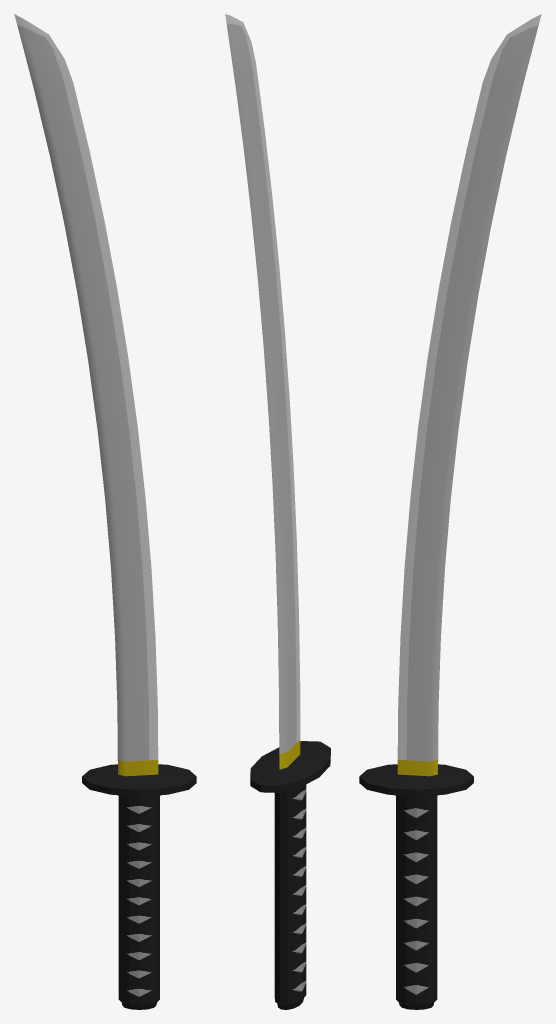
Rendered from katana.gltf.
The picture shows the model from 3 angles, left to right: view 1: azimuth 90°, elevation 25°; view 2: azimuth 150°, elevation 25°; view 3: azimuth 270°, elevation 25°; orthographic projection. The views are drawn at different scales.
Parts seen in each view (by area): view 1: Katana_Mesh; view 2: Katana_Mesh; view 3: Katana_Mesh.
Boxes of the visible parts, x1,y1,x2,y2 form: Katana_Mesh: [14, 14, 196, 1009]; Katana_Mesh: [225, 14, 330, 1009]; Katana_Mesh: [359, 14, 541, 1009].
Size of the model in its own units: 0.4429 by 7.63 by 1.27.
1 material, 1 textured.
